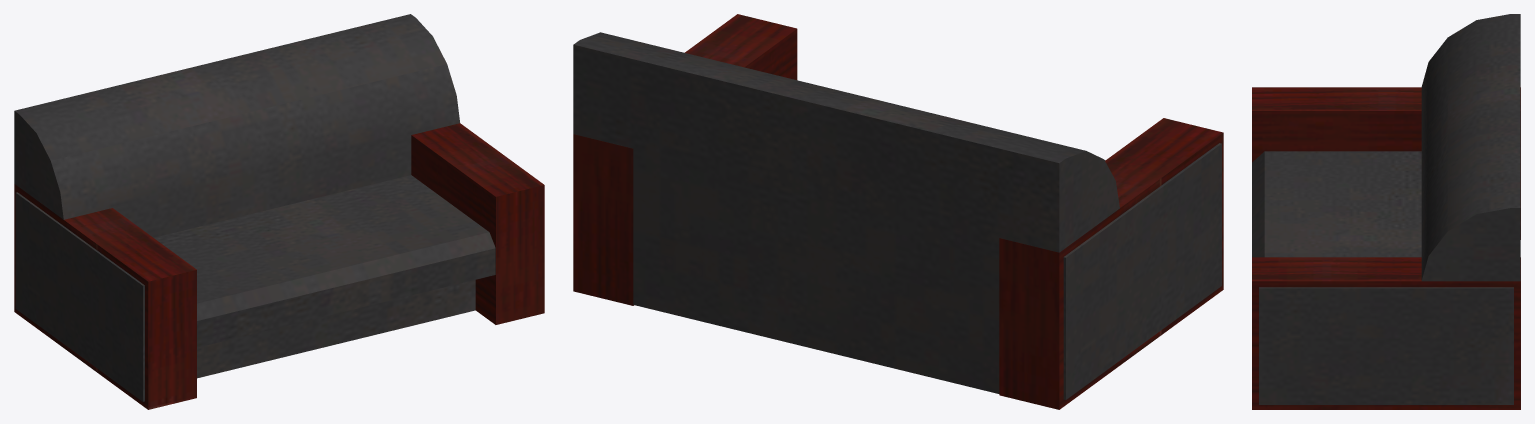
The picture shows the model from 3 angles, left to right: view 1: azimuth 30°, elevation 25°; view 2: azimuth 150°, elevation 25°; view 3: azimuth 270°, elevation 25°; orthographic projection. The views are drawn at different scales.
Parts seen in each view (by area): view 1: Lo-htxxqa_01; view 2: Lo-htxxqa_01; view 3: Lo-htxxqa_01.
Boxes of the visible parts, x1,y1,x2,y2 form: Lo-htxxqa_01: (14, 14, 544, 409); Lo-htxxqa_01: (573, 14, 1223, 409); Lo-htxxqa_01: (1252, 14, 1520, 409).
Size of the model in its own units: 1.38 by 0.6603 by 0.7966.
Materials: 1 (1 with a texture image).
